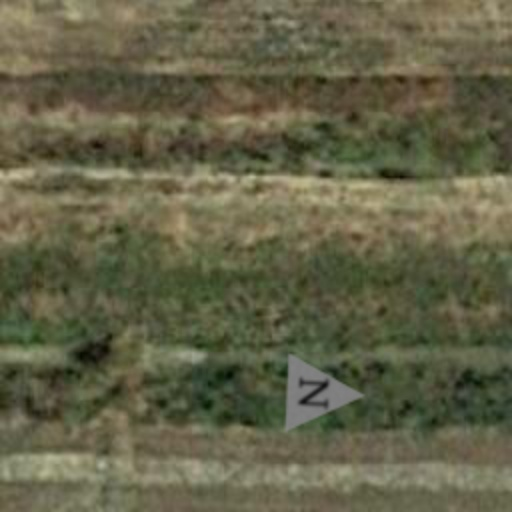triangle: (284, 352, 368, 436)
